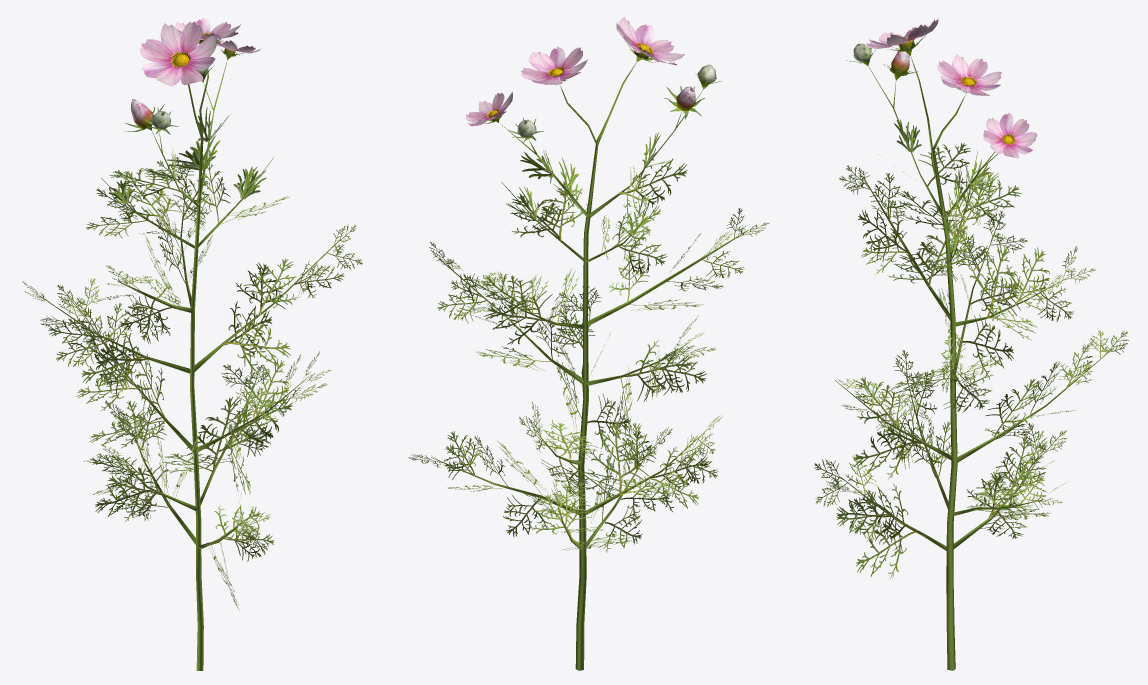
File: Cosmos2C.fbx
3 views of the same model, side by side, from view 1: azimuth 30°, elevation 25°; view 2: azimuth 150°, elevation 25°; view 3: azimuth 270°, elevation 25° (orthographic). The views are drawn at different scales.
Visible parts, largest first — view 1: Cosmos2C_LOD0; view 2: Cosmos2C_LOD0; view 3: Cosmos2C_LOD0.
Part boxes in pixels (x1=…): Cosmos2C_LOD0: x1=22, y1=17, x2=362, y2=670; Cosmos2C_LOD0: x1=408, y1=17, x2=769, y2=670; Cosmos2C_LOD0: x1=814, y1=19, x2=1128, y2=670.
Size of what is drawn, in the model's own units: 67.35 by 133 by 62.05.
